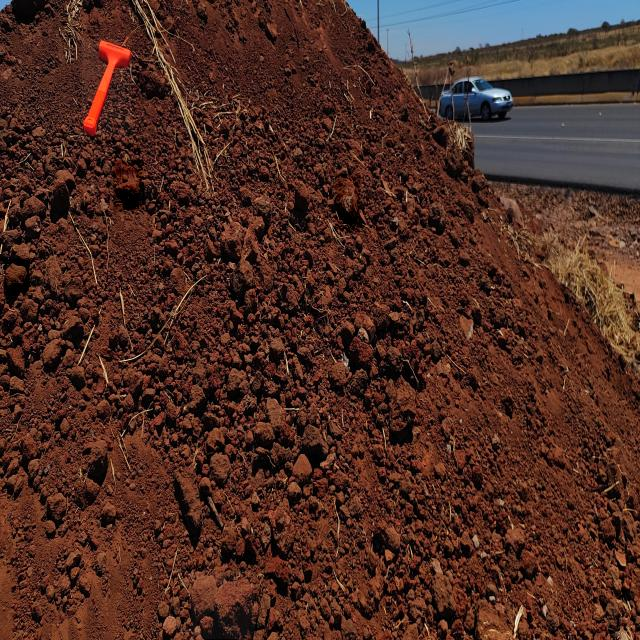Orange_hammer: (82, 38, 132, 137)
rock: (192, 572, 256, 639), (113, 160, 144, 210), (335, 175, 360, 232), (384, 512, 405, 566), (4, 258, 32, 296)
